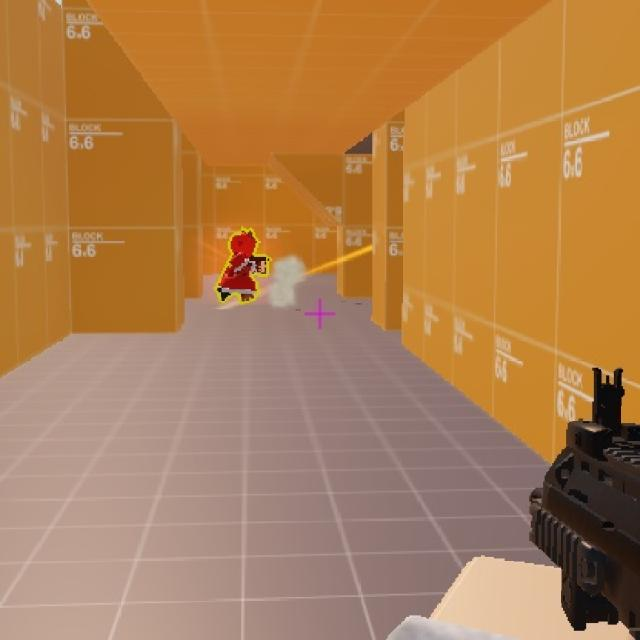player: (218, 228, 269, 310)
